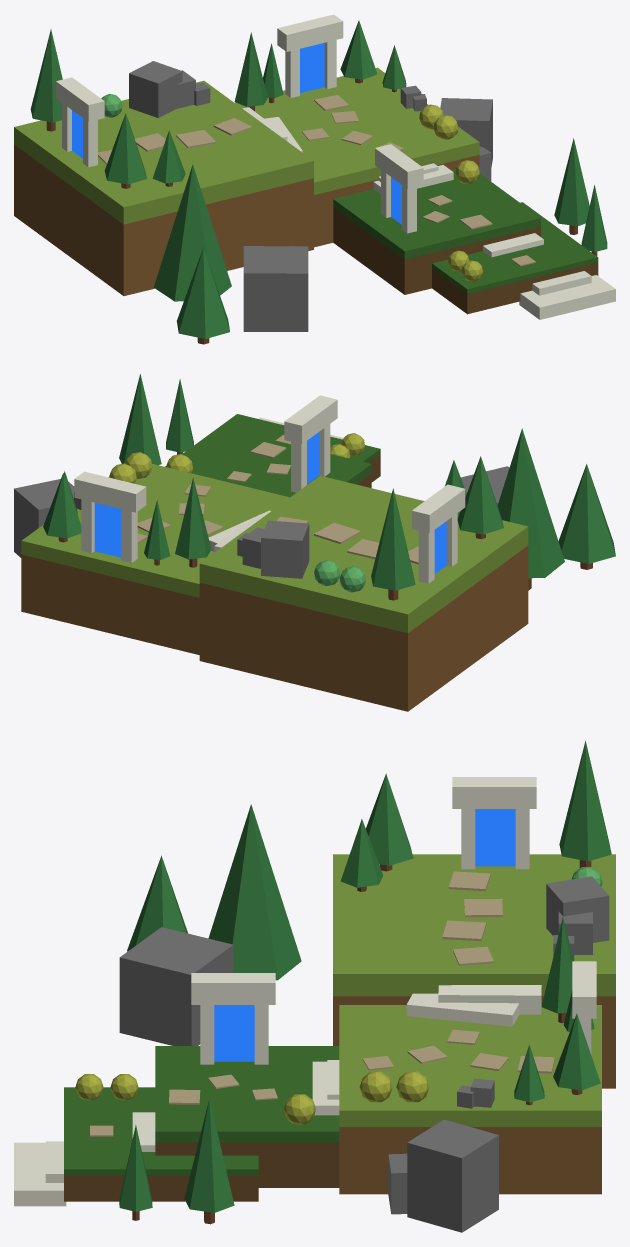
File: environment.glb
3 views of the same model, one above another, from view 1: azimuth 30°, elevation 25°; view 2: azimuth 150°, elevation 25°; view 3: azimuth 270°, elevation 25° (orthographic). The views are drawn at different scales.
Parts seen in each view (by area): view 1: terrain, terrain.001, terrain.002, terrain.003, rocks, trees.009, trees.010, rocks.002, stairs, trees.007, trees.002, rocks.007 (+23 smaller); view 2: terrain, terrain.001, terrain.002, trees.009, trees.010, rocks.002, trees.002, trees, rocks.007, gates.005, trees.007, terrain.003 (+21 smaller); view 3: terrain.001, terrain, terrain.002, terrain.003, rocks, rocks.007, trees.009, trees.002, trees.007, rocks.002, gates.002, gates.008 (+28 smaller).
Boxes of the visible parts, <box> form: terrain: <box>14,80,313,295</box>; terrain.001: <box>234,67,479,247</box>; terrain.002: <box>333,169,540,294</box>; terrain.003: <box>432,202,598,314</box>; rocks: <box>243,246,308,331</box>; trees.009: <box>153,164,231,301</box>; trees.010: <box>176,247,229,344</box>; rocks.002: <box>129,61,182,117</box>; stairs: <box>519,275,615,319</box>; trees.007: <box>554,138,589,234</box>; trees.002: <box>30,29,62,131</box>; rocks.007: <box>440,98,492,166</box>; terrain: <box>199,475,528,711</box>; terrain.001: <box>21,463,289,654</box>; terrain.002: <box>184,427,371,497</box>; trees.009: <box>497,428,564,590</box>; trees.010: <box>558,464,615,569</box>; rocks.002: <box>261,520,309,578</box>; trees.002: <box>371,488,415,600</box>; trees: <box>457,456,503,539</box>; rocks.007: <box>14,479,74,557</box>; gates.005: <box>74,471,146,512</box>; trees.007: <box>119,374,161,465</box>; terrain.003: <box>165,414,380,482</box>; terrain.001: <box>339,1005,601,1194</box>; terrain: <box>333,854,615,1088</box>; terrain.002: <box>155,1046,339,1187</box>; terrain.003: <box>64,1087,258,1201</box>; rocks: <box>119,927,233,1045</box>; rocks.007: <box>407,1120,498,1232</box>; trees.009: <box>208,804,301,980</box>; trees.002: <box>559,741,611,867</box>; trees.007: <box>184,1099,234,1224</box>; rocks.002: <box>546,876,609,942</box>; gates.002: <box>191,973,275,1004</box>; gates.008: <box>452,777,536,808</box>.
Size of what is drawn, in the model's own units: 17.32 by 7.44 by 16.22.
